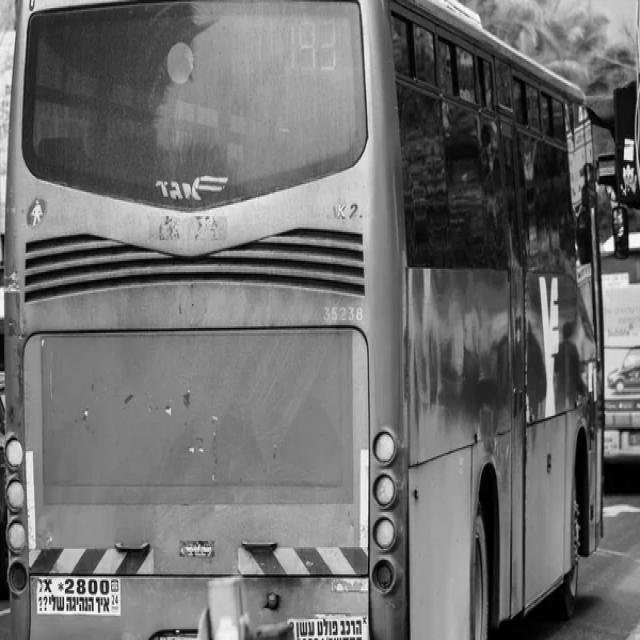Bus: (4, 1, 603, 640)
